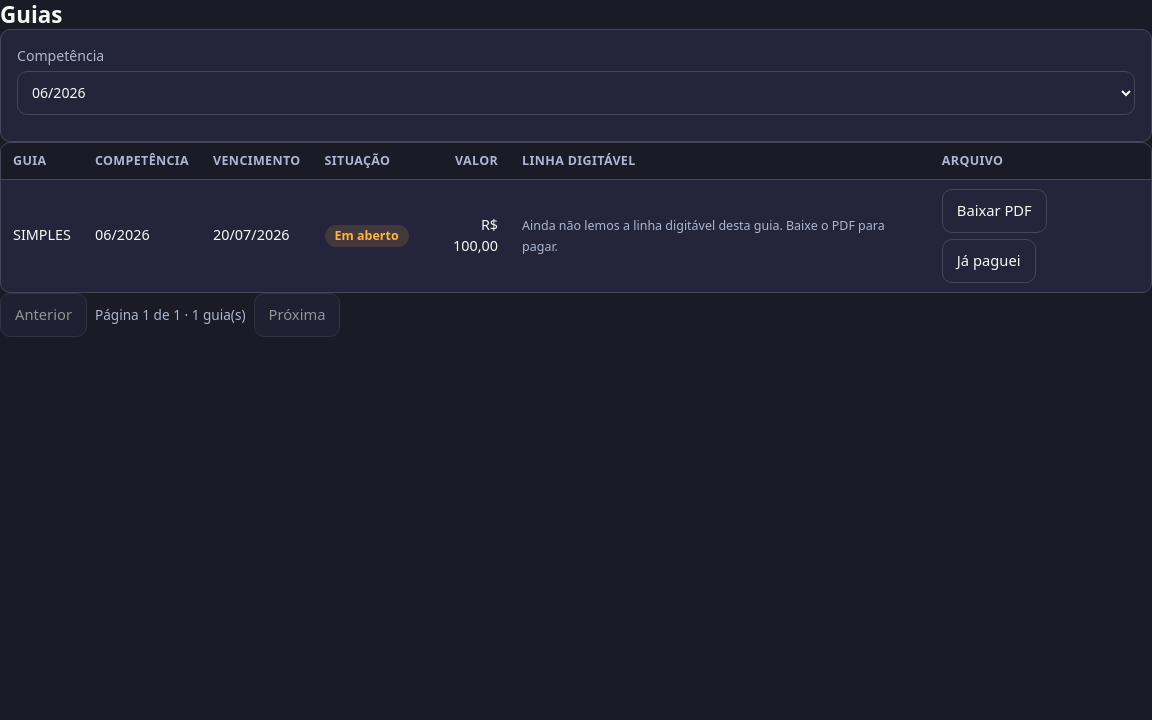
Test: envia versão e data explícitas; distingue baixa PENDENTE
The width and height of the screenshot is (1152, 720).
Click the button "Já paguei" at (989, 261), box [942,239,1036,283]
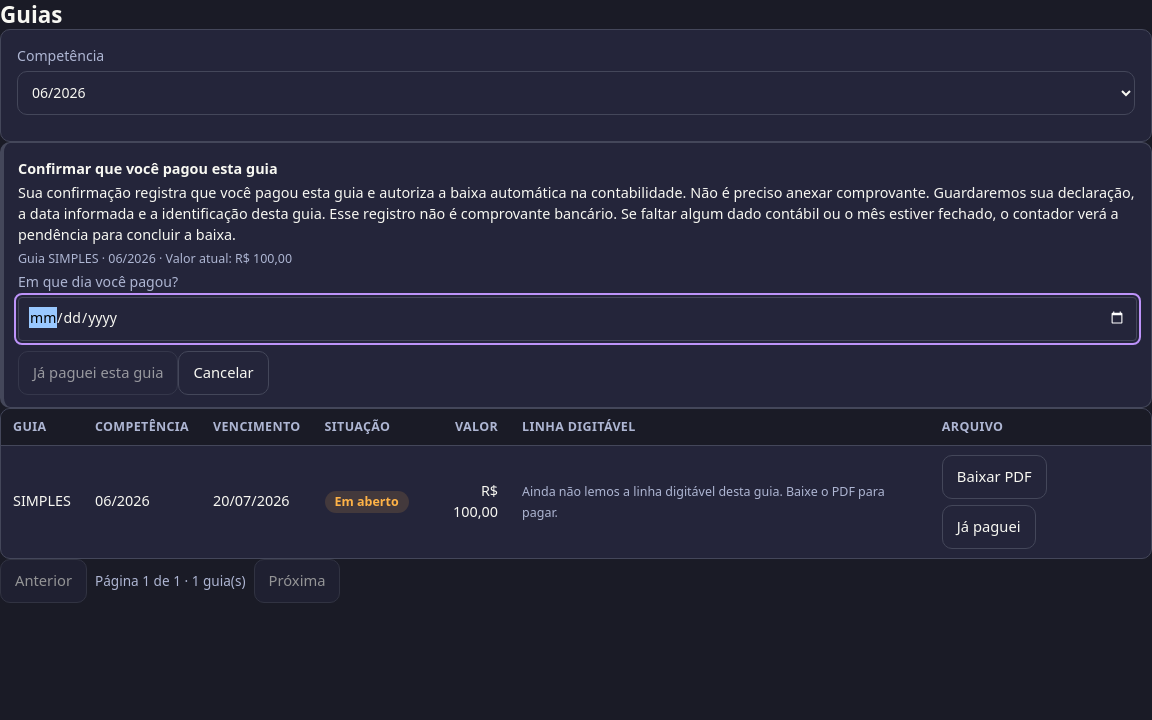
Type "2026-07-14" into the date field labelled "Em que dia você pagou?" at (578, 318), box [18,296,1137,340]
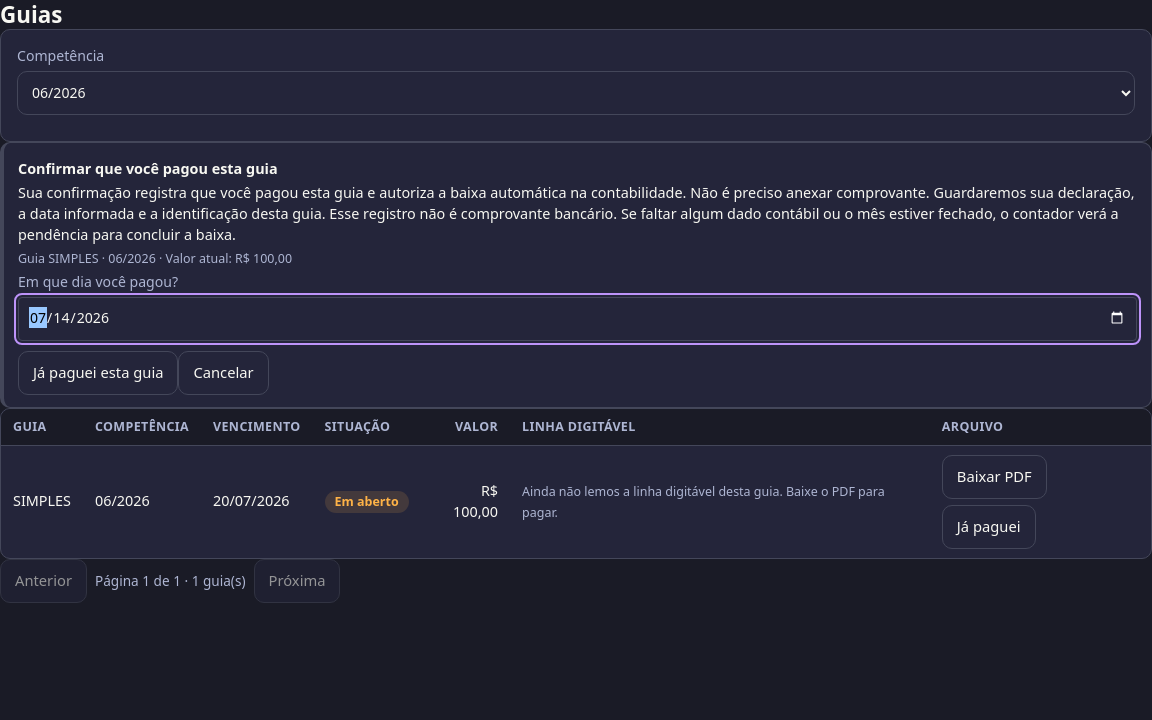
Click the button "Já paguei esta guia" at (98, 372), box [18,350,178,394]
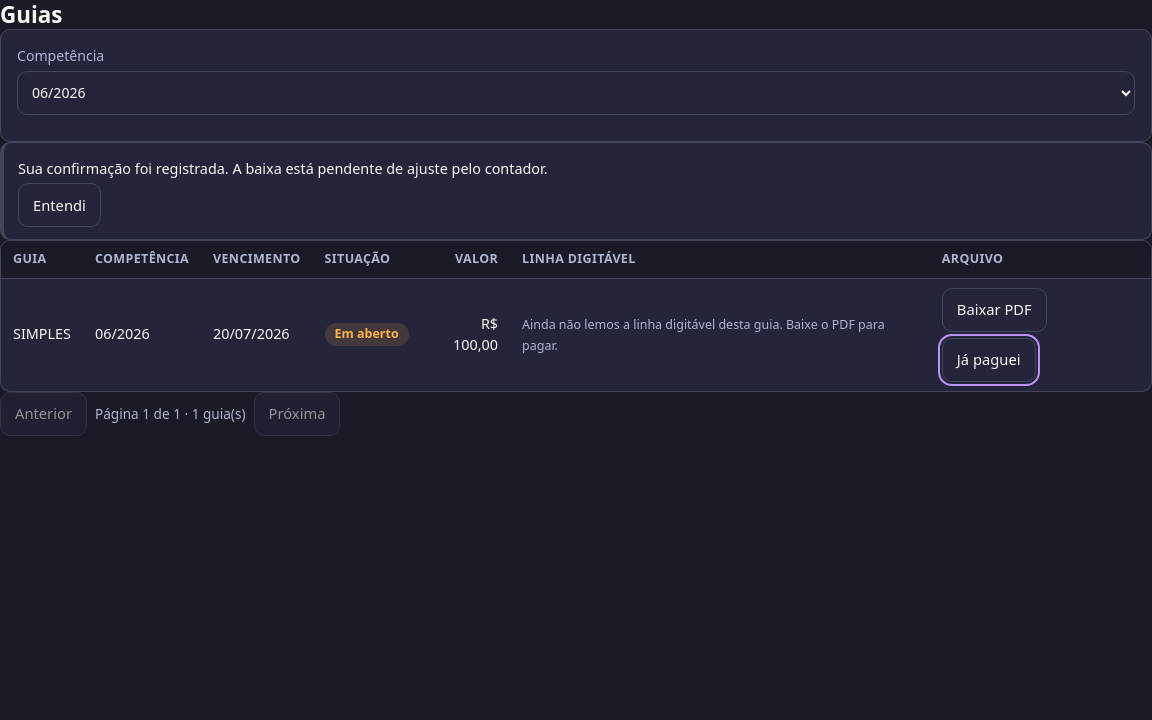
Expected: the text "baixa está pendente de ajuste" is shown, [18,158,548,178]
